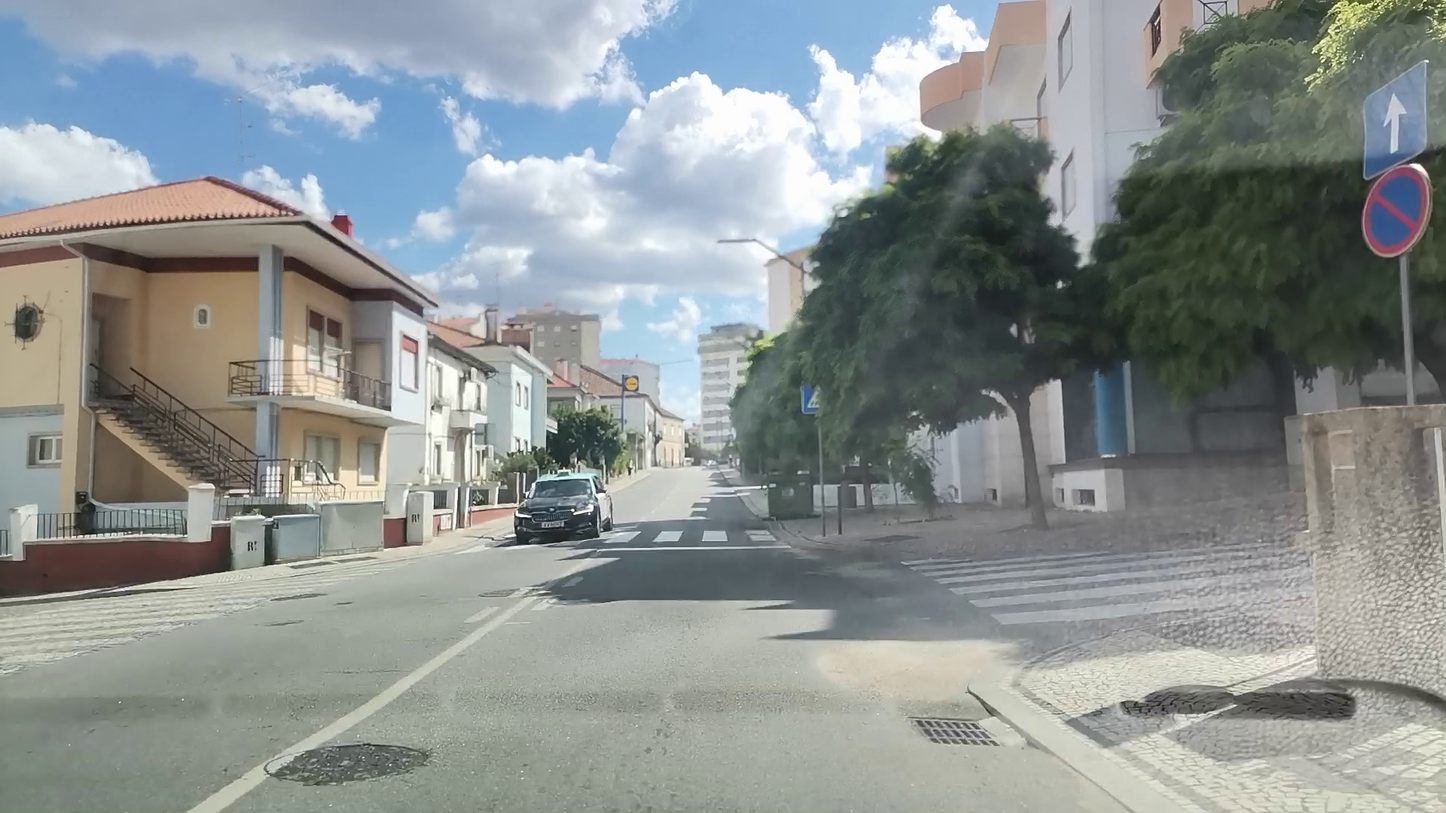Stairs: (595, 522, 792, 554)
